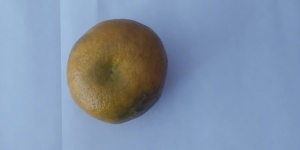BAD: (66, 17, 170, 124)
